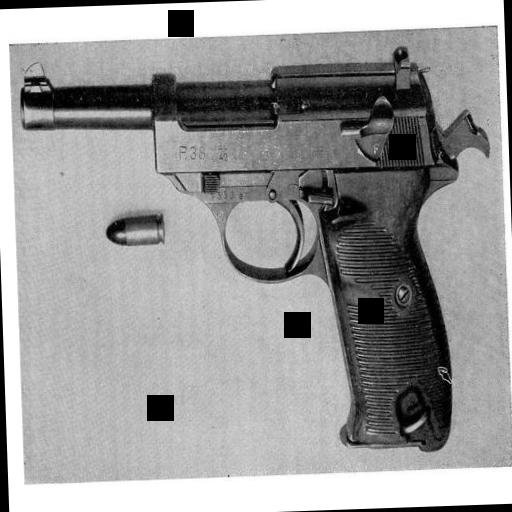Handgun: (15, 43, 500, 474)
